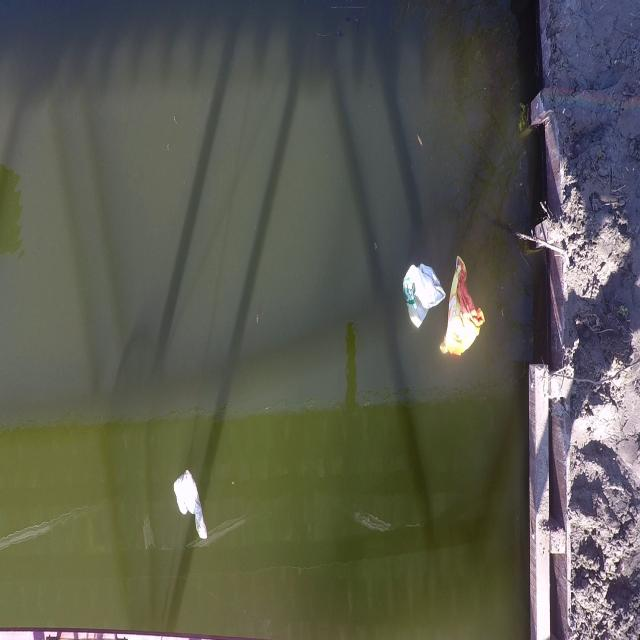Sac plastique: (438, 249, 490, 361), (400, 252, 447, 329), (170, 459, 212, 544)
